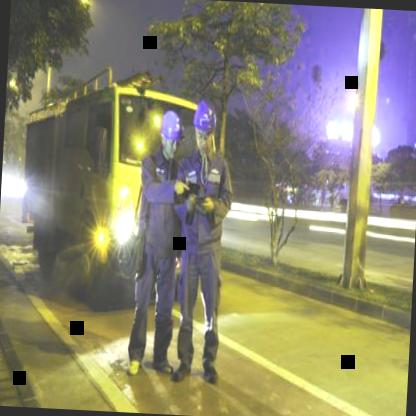helmet: (190, 96, 218, 152), (157, 109, 184, 157)
